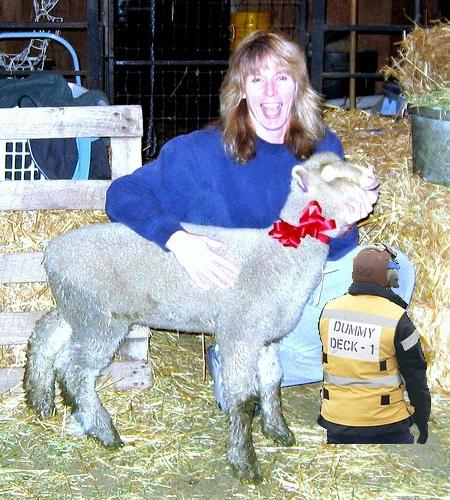tampered: (318, 243, 431, 444)
